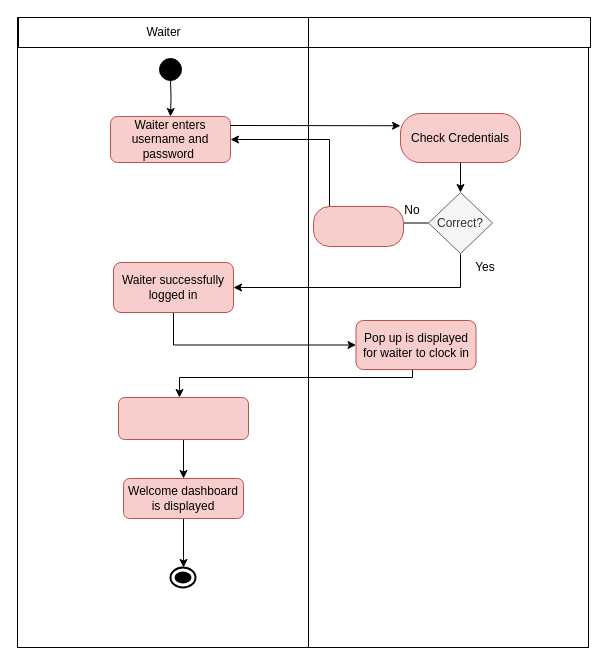
Image size: 608x666. Some labels were removed from this diagram. The centre of each missing label's shape, as x and y in pixels:
Page will be refreshed: pixel 358 226
System: pixel 449 32
Waiter clocks in: pixel 183 418
